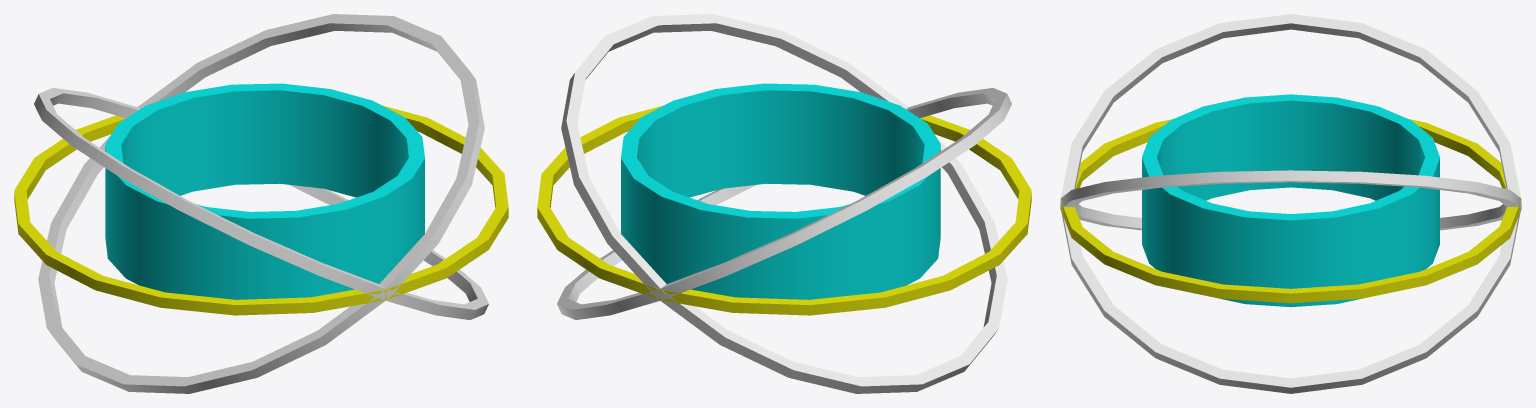
File: Warp.fbx
3 renders of one model, left to right at view 1: azimuth 30°, elevation 25°; view 2: azimuth 150°, elevation 25°; view 3: azimuth 270°, elevation 25°, orthographic. The views are drawn at different scales.
Visible parts, largest first — view 1: pasted__pasted__pPipe1; view 2: pasted__pasted__pPipe1; view 3: pasted__pasted__pPipe1.
Boxes of the visible parts, left/top/right/bottom form: pasted__pasted__pPipe1: left=14, top=14, right=508, bottom=393; pasted__pasted__pPipe1: left=537, top=14, right=1031, bottom=393; pasted__pasted__pPipe1: left=1060, top=14, right=1521, bottom=393.
Bounding box in the file's own units: 7.58 × 4.17 × 7.58.
